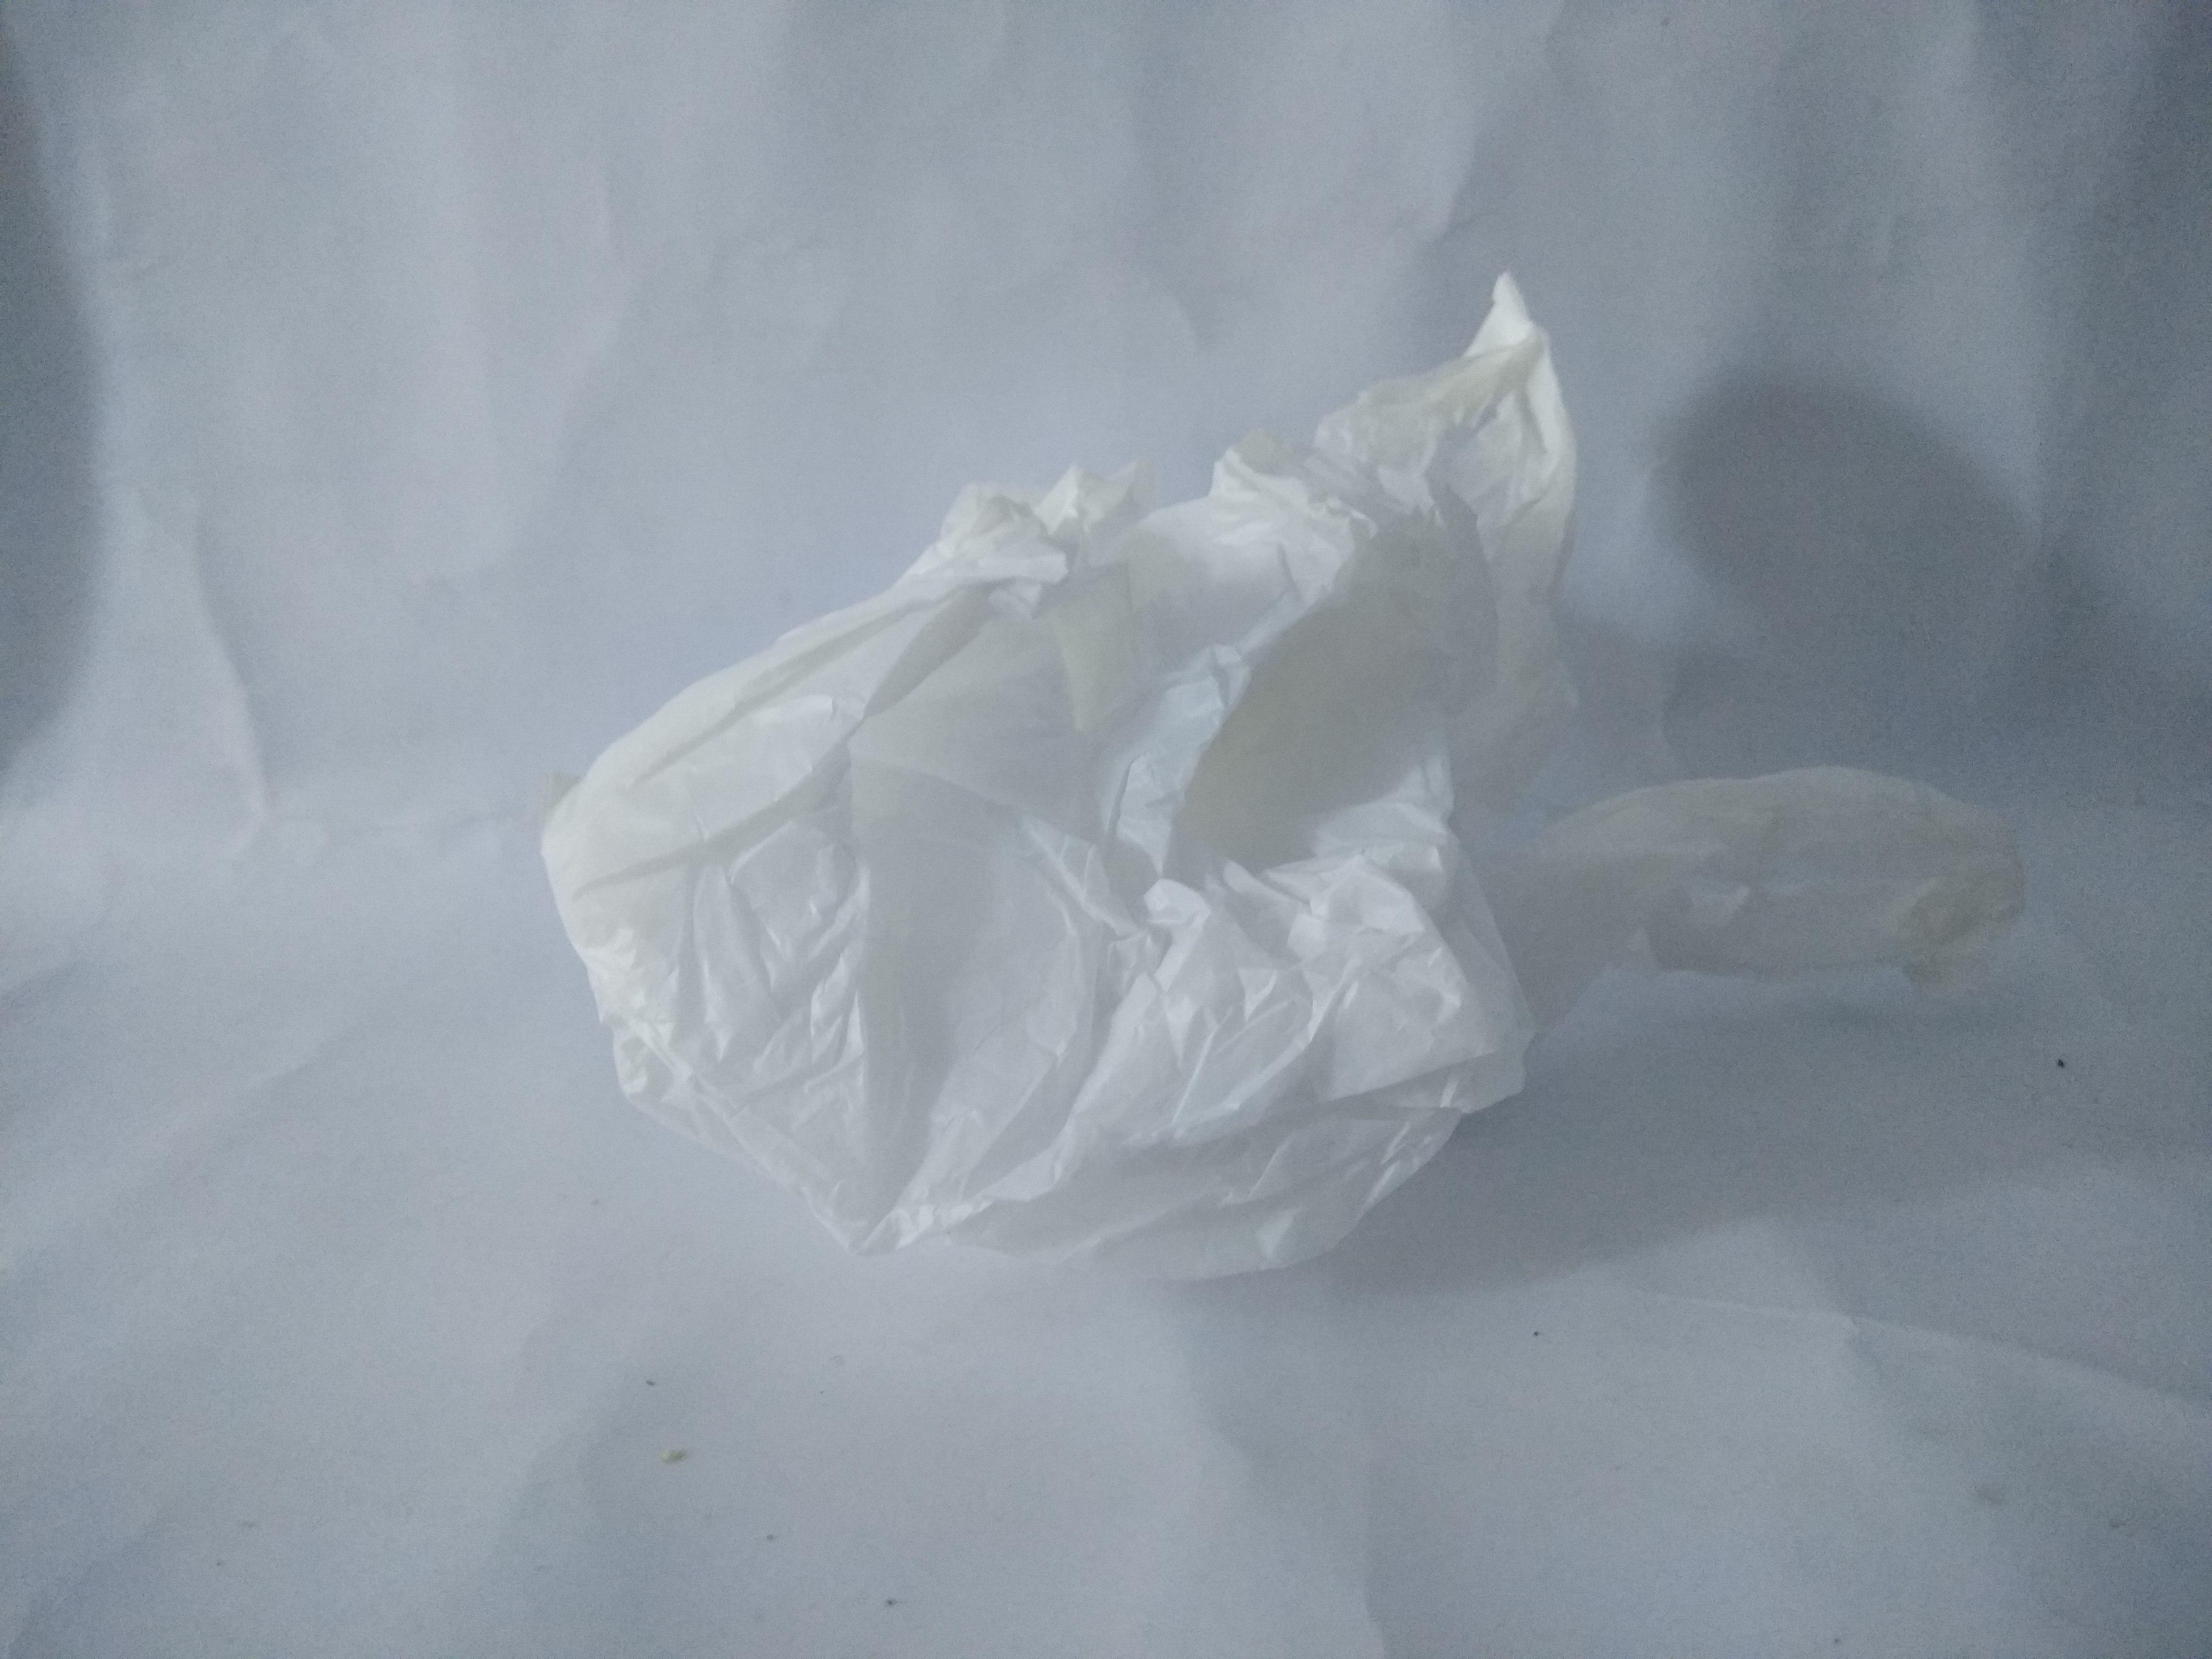LDPE: (538, 274, 2017, 1279)
